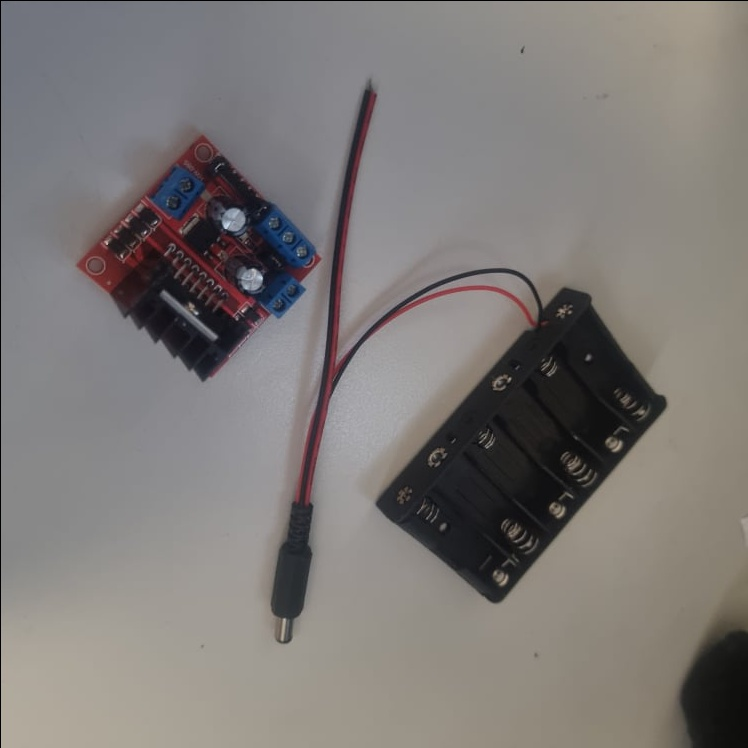BATTERY BOX: (374, 284, 667, 601)
MOTOR: (73, 132, 325, 380)
